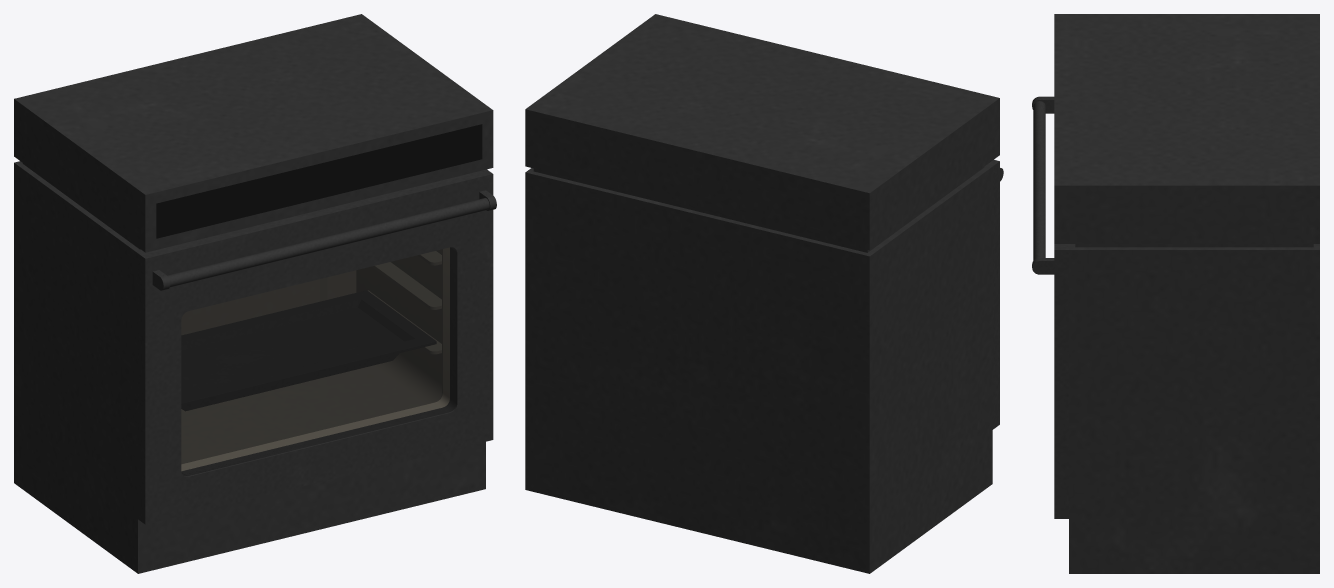
The model's file is KitchenOven07.fbx.
The picture shows the model from 3 angles, left to right: view 1: azimuth 30°, elevation 25°; view 2: azimuth 150°, elevation 25°; view 3: azimuth 270°, elevation 25°; orthographic projection. The views are drawn at different scales.
Parts seen in each view (by area): view 1: KitchenOven07, KitchenOven07_Door01, KitchenOven07_Glass, OvenRack07; view 2: KitchenOven07, KitchenOven07_Door01; view 3: KitchenOven07, KitchenOven07_Door01.
Part boxes in pixels (x1=…): KitchenOven07: x1=14, y1=14, x2=493, y2=573; KitchenOven07_Door01: x1=138, y1=169, x2=496, y2=524; KitchenOven07_Glass: x1=181, y1=247, x2=456, y2=476; OvenRack07: x1=181, y1=290, x2=436, y2=410; KitchenOven07: x1=525, y1=14, x2=999, y2=573; KitchenOven07_Door01: x1=987, y1=160, x2=1003, y2=429; KitchenOven07: x1=1054, y1=14, x2=1319, y2=573; KitchenOven07_Door01: x1=1032, y1=96, x2=1068, y2=518.
Size of the model in its own units: 66.02 by 69.73 by 46.8.
